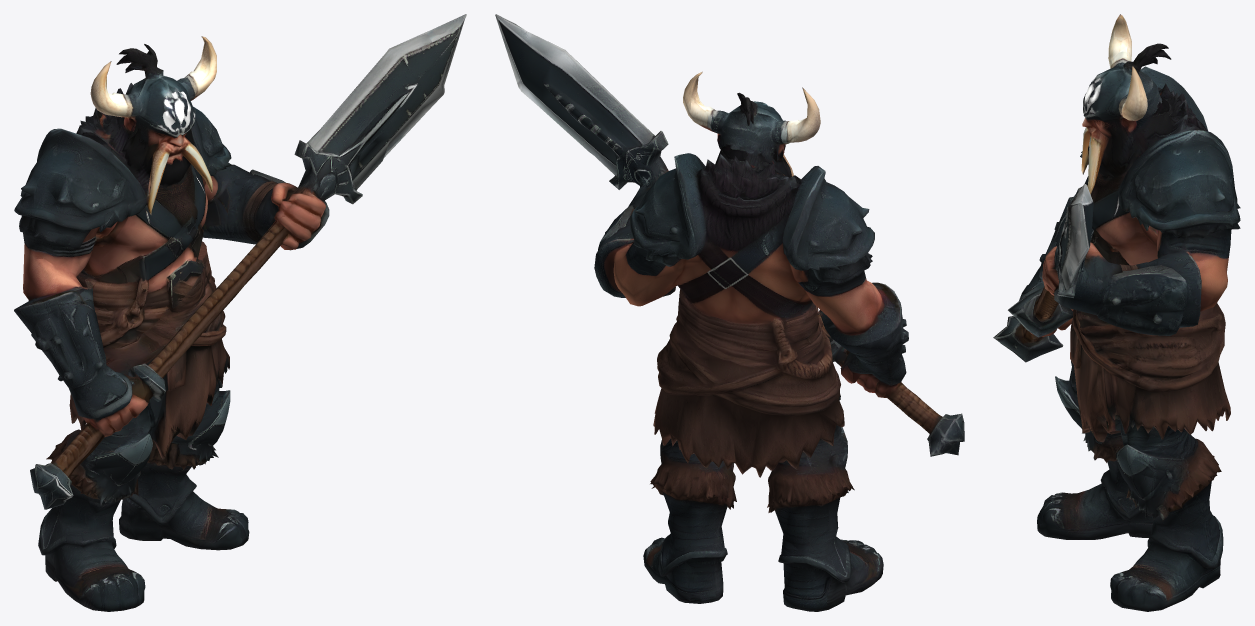
Rendered from bloodclaw.glb.
3 renders of one model, left to right at view 1: azimuth 30°, elevation 25°; view 2: azimuth 150°, elevation 25°; view 3: azimuth 270°, elevation 25°, orthographic. The views are drawn at different scales.
Bounding box in the file's own units: 1.78 × 1.91 × 0.8168.
1 material, 1 textured.
